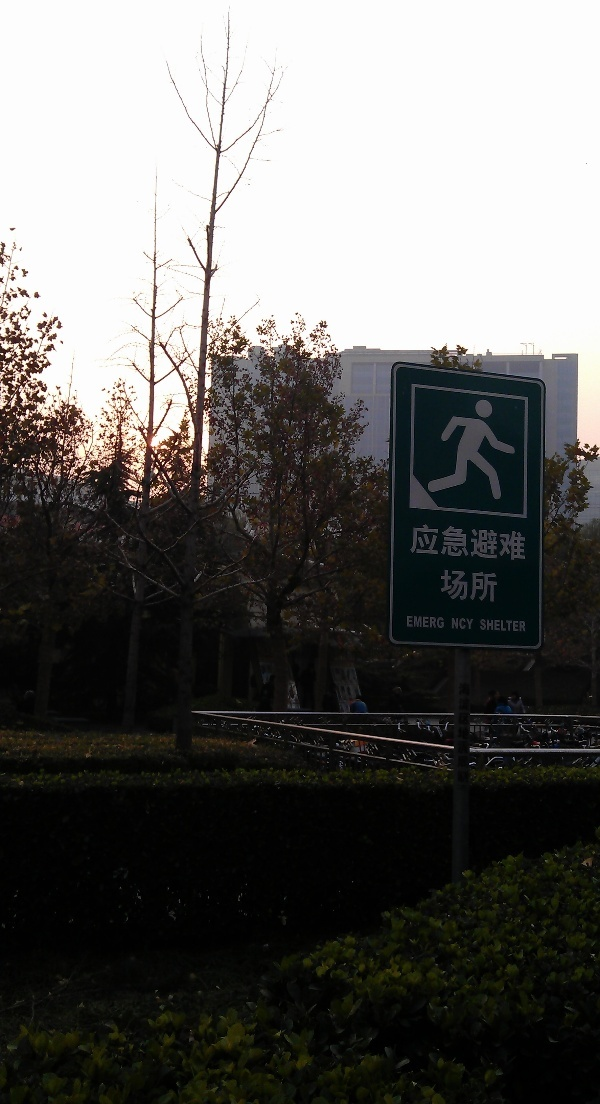text: (465, 681, 472, 785), (458, 681, 464, 785), (417, 523, 432, 561), (433, 523, 448, 561), (449, 523, 464, 561), (465, 523, 480, 561), (481, 523, 496, 561), (497, 523, 512, 561), (449, 569, 464, 603), (465, 569, 480, 603), (481, 569, 496, 603), (513, 523, 526, 561), (481, 618, 496, 633), (497, 618, 512, 633), (417, 616, 432, 630), (442, 569, 448, 603), (513, 618, 526, 633), (411, 523, 416, 561), (433, 616, 446, 630), (452, 618, 464, 629), (407, 616, 416, 630), (465, 618, 474, 629), (497, 569, 499, 603)
